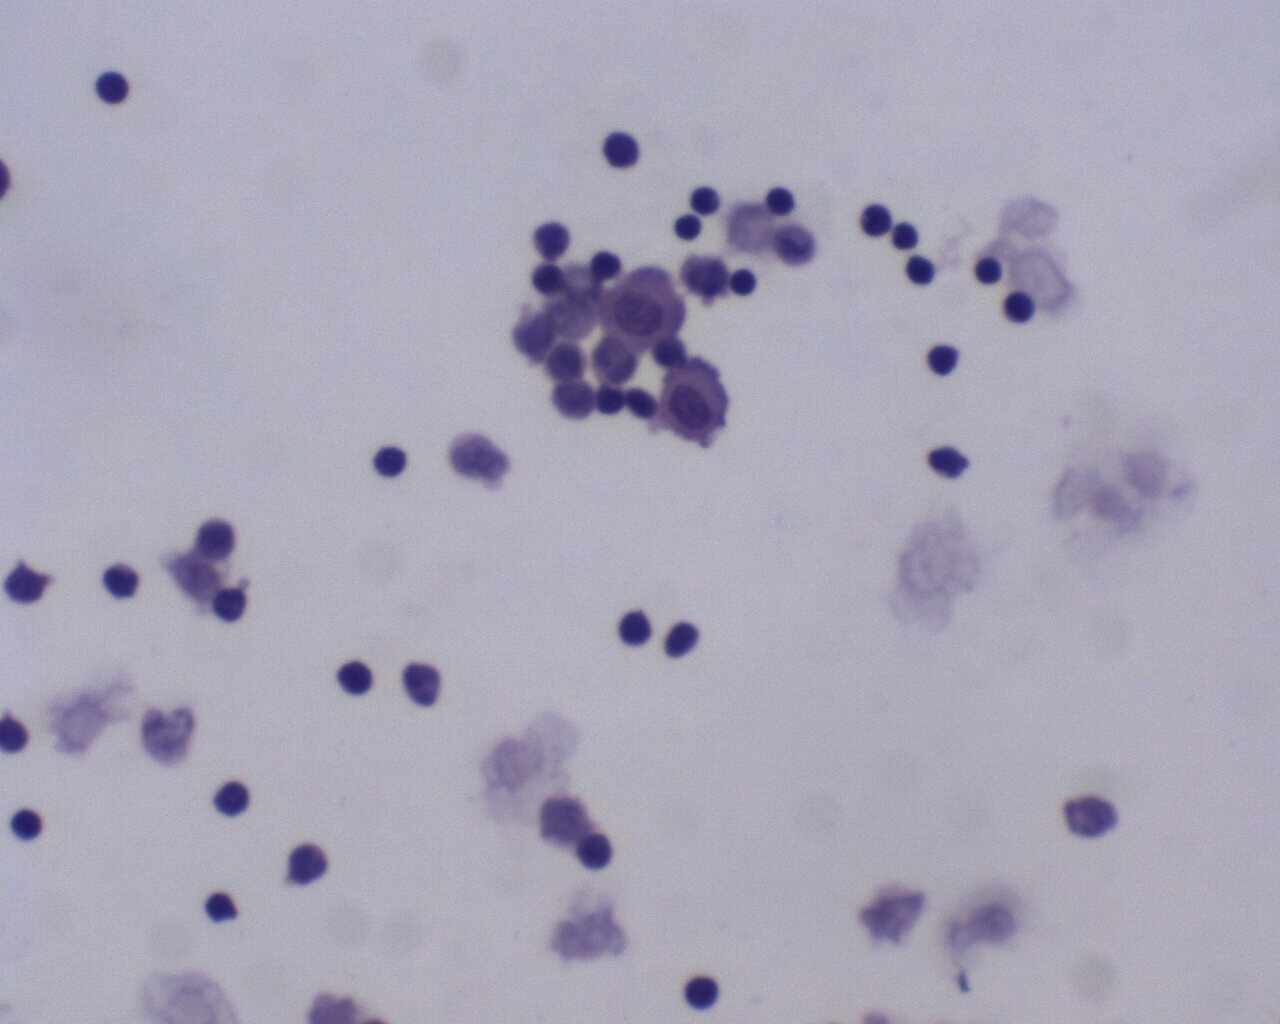lymph: (920, 334, 968, 385), (660, 619, 709, 665), (599, 122, 645, 171), (678, 967, 723, 1016), (571, 829, 621, 872), (9, 800, 51, 850), (370, 442, 417, 483), (90, 65, 138, 104), (760, 179, 804, 220), (333, 656, 375, 697), (968, 253, 1008, 288), (904, 250, 938, 289), (668, 208, 701, 245)
meso: (598, 261, 697, 349), (655, 360, 730, 448)
